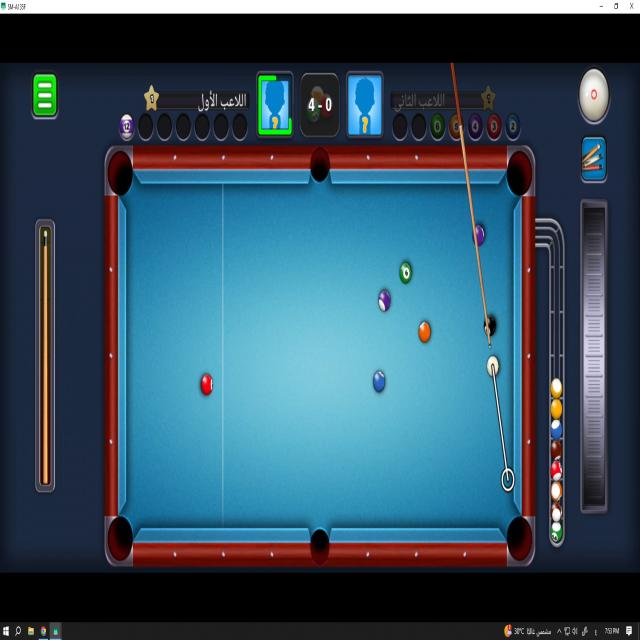object_ball: (400, 262, 412, 284), (373, 371, 385, 392), (201, 374, 212, 395), (419, 322, 430, 343), (379, 291, 390, 311), (487, 316, 496, 335), (476, 225, 484, 246)
white_cue_ball: (487, 356, 498, 376)
